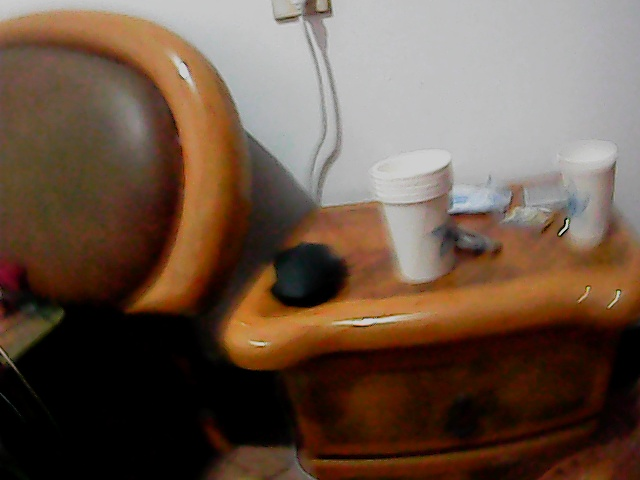cup: (368, 147, 463, 283)
mouse: (269, 241, 348, 306)
